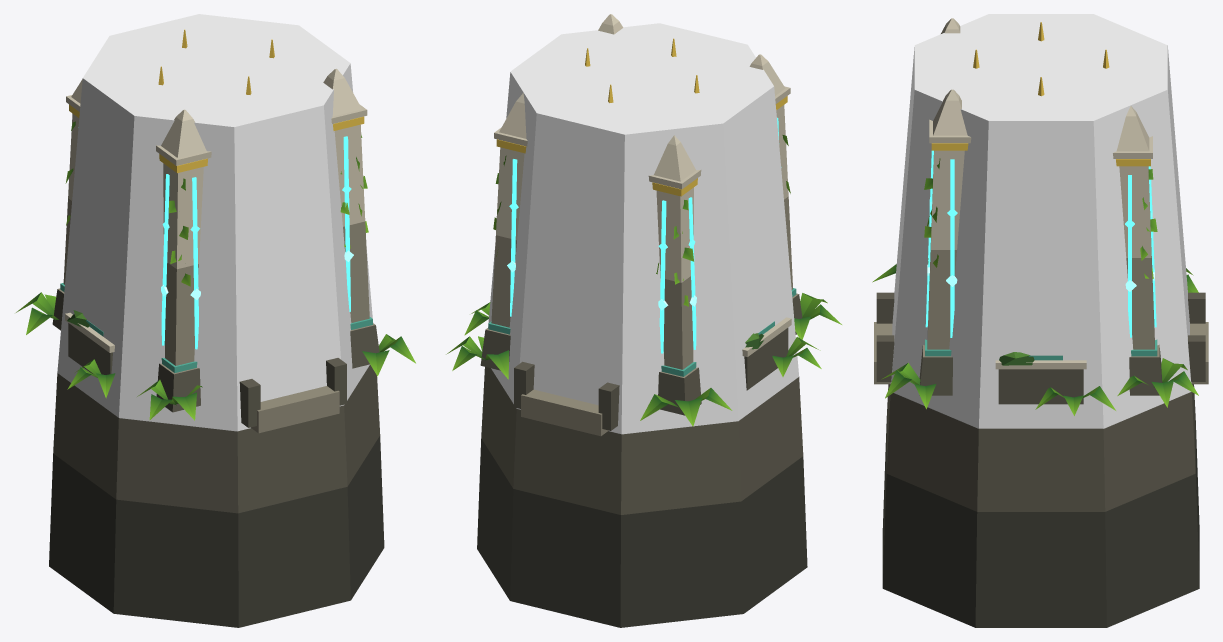
File: ancient_tidal_compass_sanctum.glb
3 views of the same model, side by side, from view 1: azimuth 30°, elevation 25°; view 2: azimuth 150°, elevation 25°; view 3: azimuth 270°, elevation 25° (orthographic). The views are drawn at different scales.
Visible parts, largest first — view 1: ancient_tidal_compass_sanctum, col_tidalcompass_base; view 2: ancient_tidal_compass_sanctum, col_tidalcompass_base; view 3: ancient_tidal_compass_sanctum, col_tidalcompass_base.
Boxes of the visible parts, box(x1,y1,x2,y2) form: ancient_tidal_compass_sanctum: box(16, 29, 415, 627); col_tidalcompass_base: box(57, 14, 373, 431); ancient_tidal_compass_sanctum: box(446, 14, 841, 627); col_tidalcompass_base: box(488, 23, 799, 434); ancient_tidal_compass_sanctum: box(872, 18, 1208, 627); col_tidalcompass_base: box(890, 14, 1191, 428).
Size of the model in its own units: 5.28 by 7.82 by 4.67.
